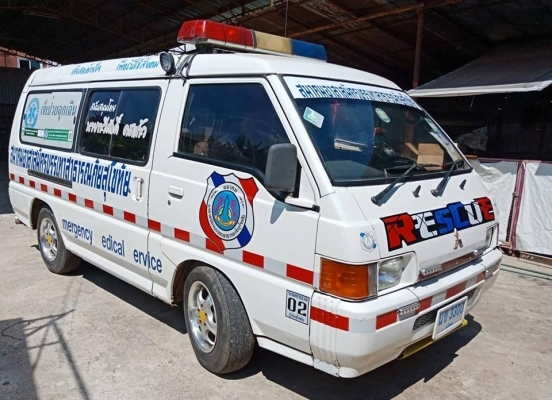van: (6, 41, 502, 380)
